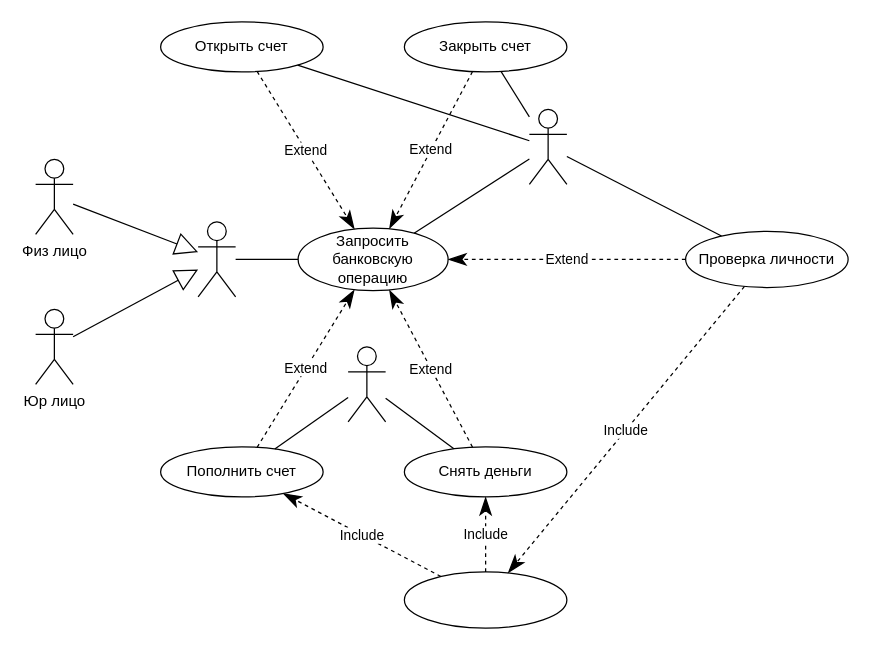
Some shapes in this 870 by 650 pixel diagram are drawn without their labels. The shapes that lost their labels are listed below. From the top down, each one's centre as x and y in pixels, then its label:
At [547,146]: "Операционист".
At [216,259]: "Клиент".
At [366,384]: "Кассир".
At [485,599]: "Подтверждение операции".
